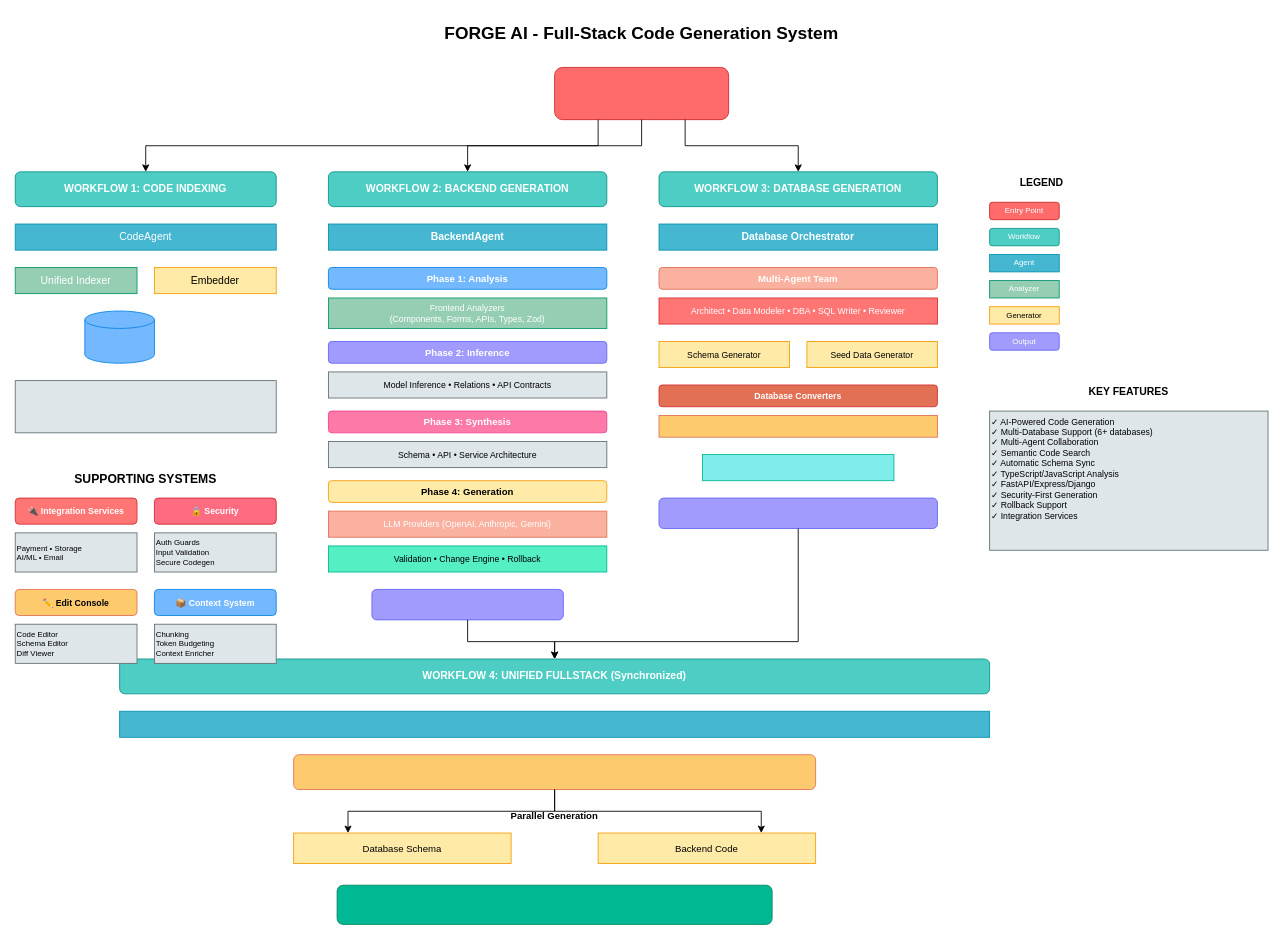
This 1283x940 diagram has some shape labels left out. Here are the shapes that lost their labels. From the top down, the centre of each, then its label:
the point at 641,93: main.py CLI Entry Point
the point at 119,336: ChromaDB Vector Store
the point at 145,406: • Semantic Search • Code Navigation • Symbol Indexing
the point at 797,426: MySQL • PostgreSQL • MongoDB • SQLite • SQL Server • Oracle
the point at 798,467: Migration Engine
the point at 797,513: ✓ Database Schema + Migrations + Seeds
the point at 467,604: ✓ Generated Backend Code
the point at 554,723: Unified Workflow Engine + FullStack Agent
the point at 554,772: 🔄 SYNCHRONIZED MODELS (Single Source of Truth)
the point at 554,904: ✅ Fully Synchronized Full-Stack Application
